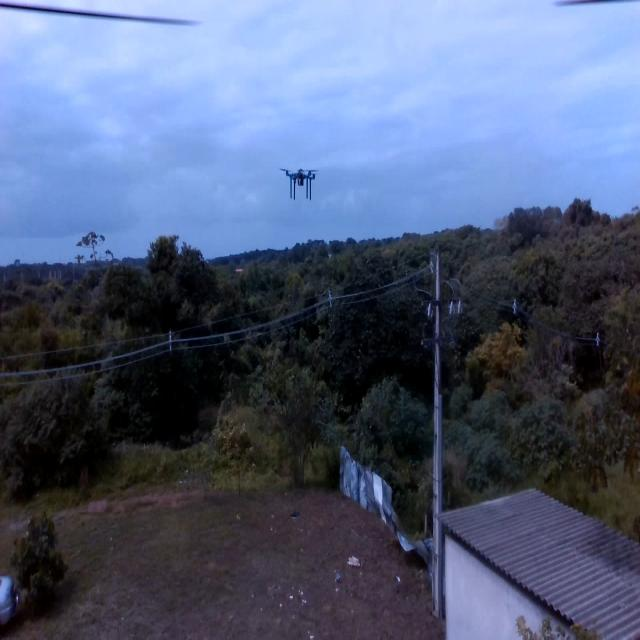-uav-: (278, 150, 324, 210)
